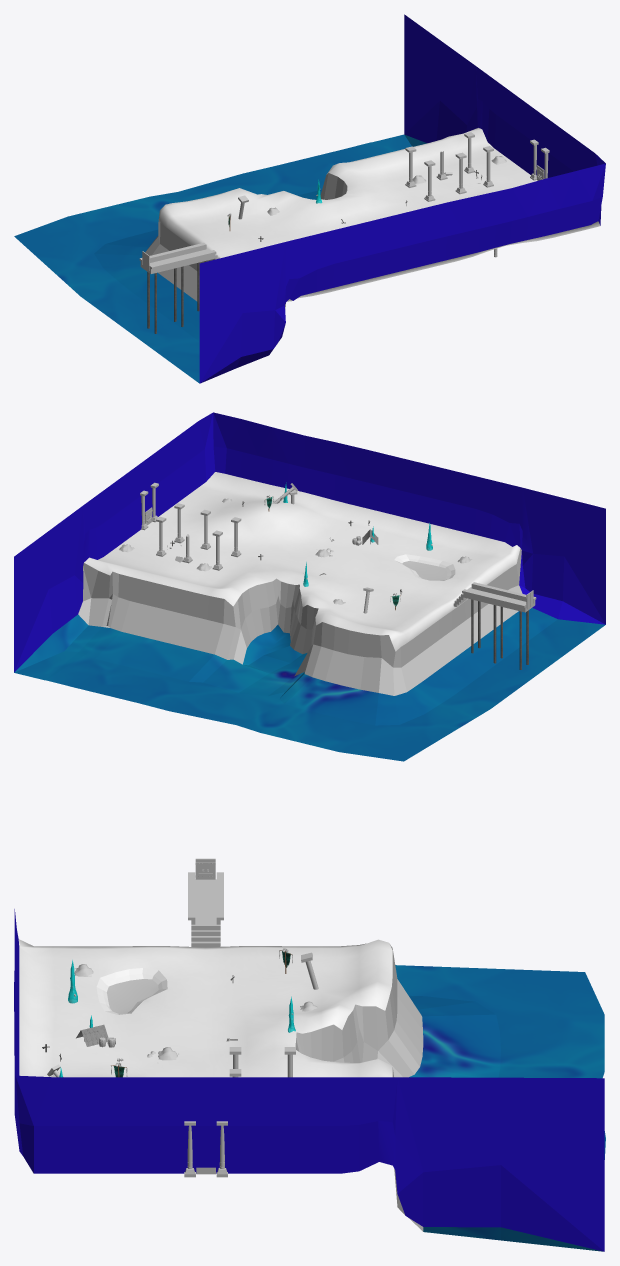
The model's file is Exterieur.FBX.
3 renders of one model, top to bottom at view 1: azimuth 30°, elevation 25°; view 2: azimuth 150°, elevation 25°; view 3: azimuth 270°, elevation 25°, orthographic. The views are drawn at different scales.
Visible parts, largest first — view 1: Mur, Sol Fond, Plane001, Pont, Parois; view 2: Mur, Sol Fond, Plane001, Parois, Pont; view 3: Mur, Plane001, Sol Fond, Parois, Pont.
Boxes of the visible parts, <box> form: Mur: <box>199,14,605,383</box>; Sol Fond: <box>14,134,411,383</box>; Plane001: <box>158,128,600,301</box>; Pont: <box>139,242,219,333</box>; Parois: <box>145,173,347,308</box>; Mur: <box>14,412,605,672</box>; Sol Fond: <box>14,608,605,761</box>; Plane001: <box>84,472,520,651</box>; Parois: <box>78,548,522,695</box>; Pont: <box>453,582,536,669</box>; Mur: <box>14,909,604,1251</box>; Plane001: <box>18,939,392,1077</box>; Sol Fond: <box>395,965,605,1159</box>; Parois: <box>295,944,423,1231</box>; Pont: <box>188,872,223,947</box>.
Size of what is drawn, in the model's own units: 2068 by 596 by 1787.
